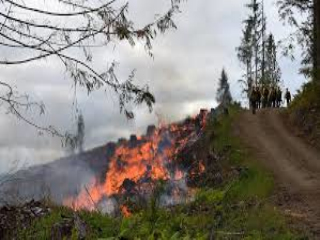fire: (100, 128, 204, 194)
smoke: (17, 148, 93, 193)
